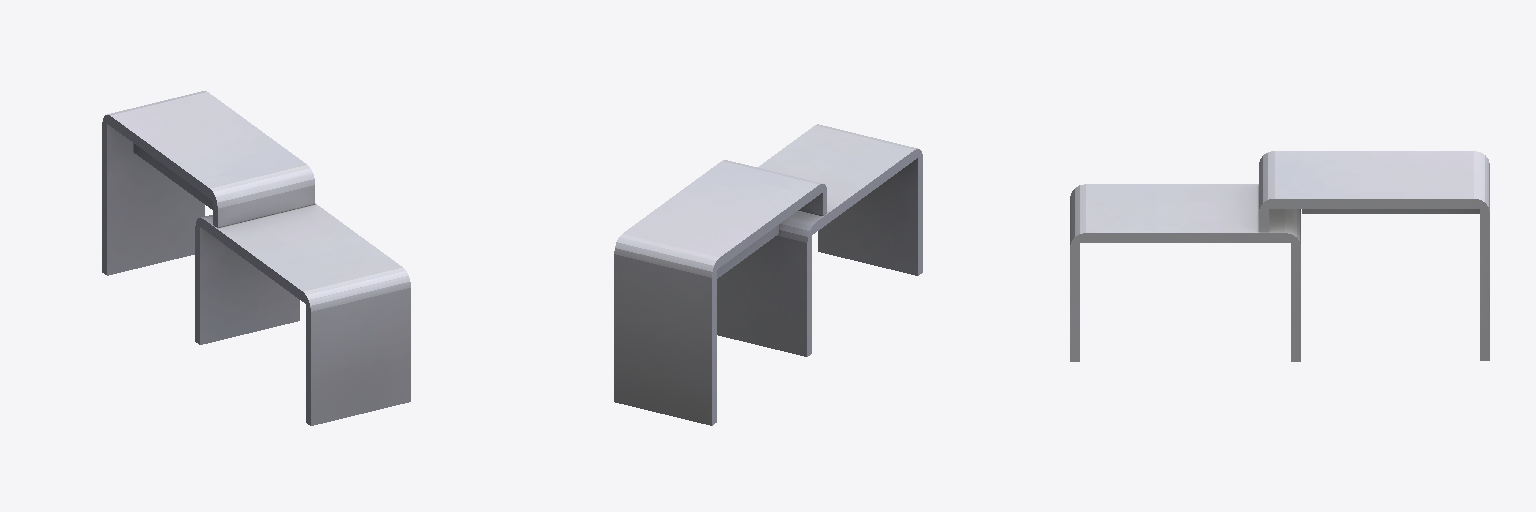
3 renders of one model, left to right at view 1: azimuth 30°, elevation 25°; view 2: azimuth 150°, elevation 25°; view 3: azimuth 270°, elevation 25°, orthographic.
Parts seen in each view (by area): view 1: 4; view 2: 4; view 3: 4.
Part boxes in pixels (bbox=[...]): 4: bbox=[102, 91, 410, 425]; 4: bbox=[614, 124, 922, 425]; 4: bbox=[1070, 151, 1489, 361].
Size of the model in its own units: 0.5912 by 0.9175 by 2.15.
Materials: 1 (1 with a texture image).